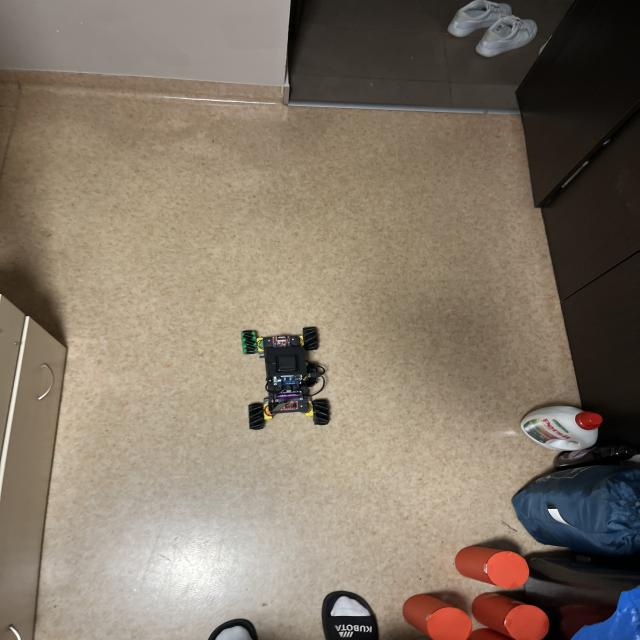robot: (241, 326, 330, 430)
